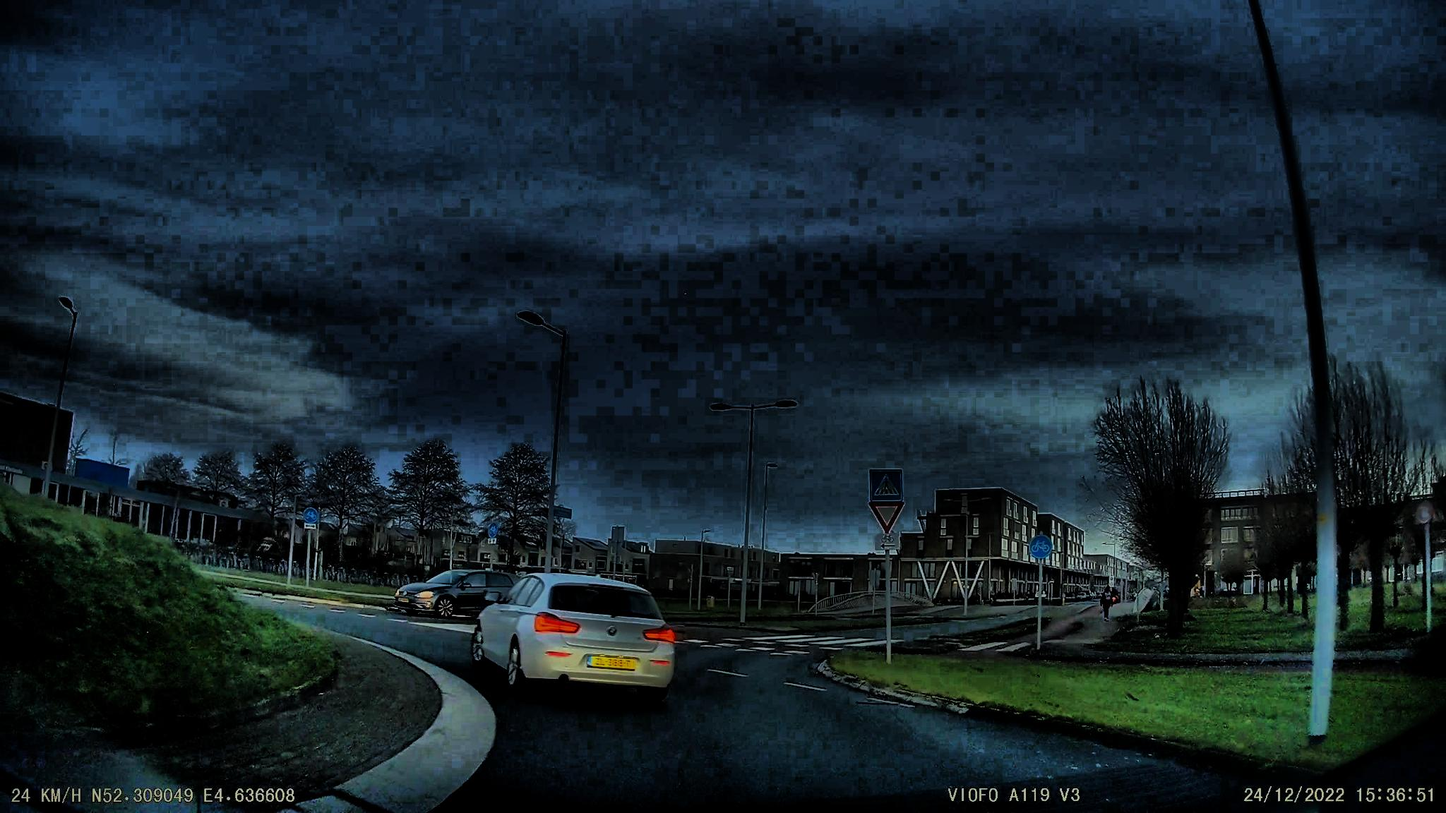Roads: (271, 597, 1430, 813)
